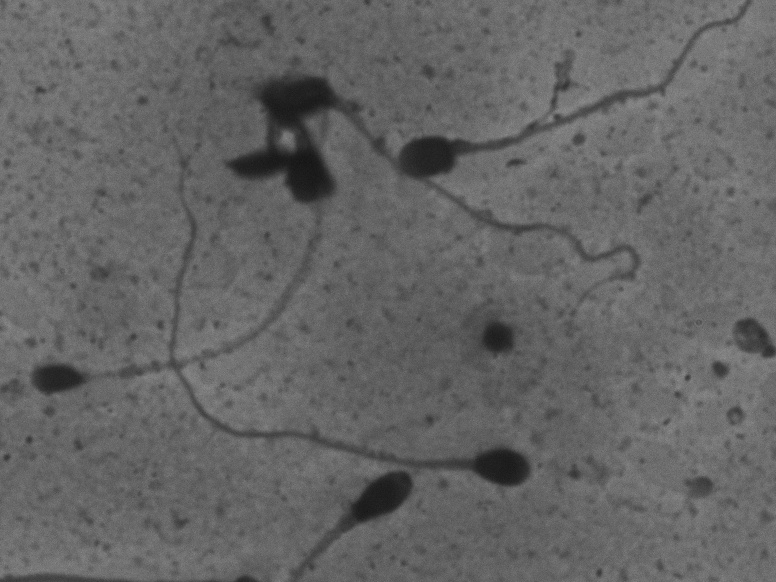Abnormal: (23, 193, 352, 415), (391, 2, 756, 188), (295, 464, 441, 578)
Normal: (159, 129, 544, 502)
